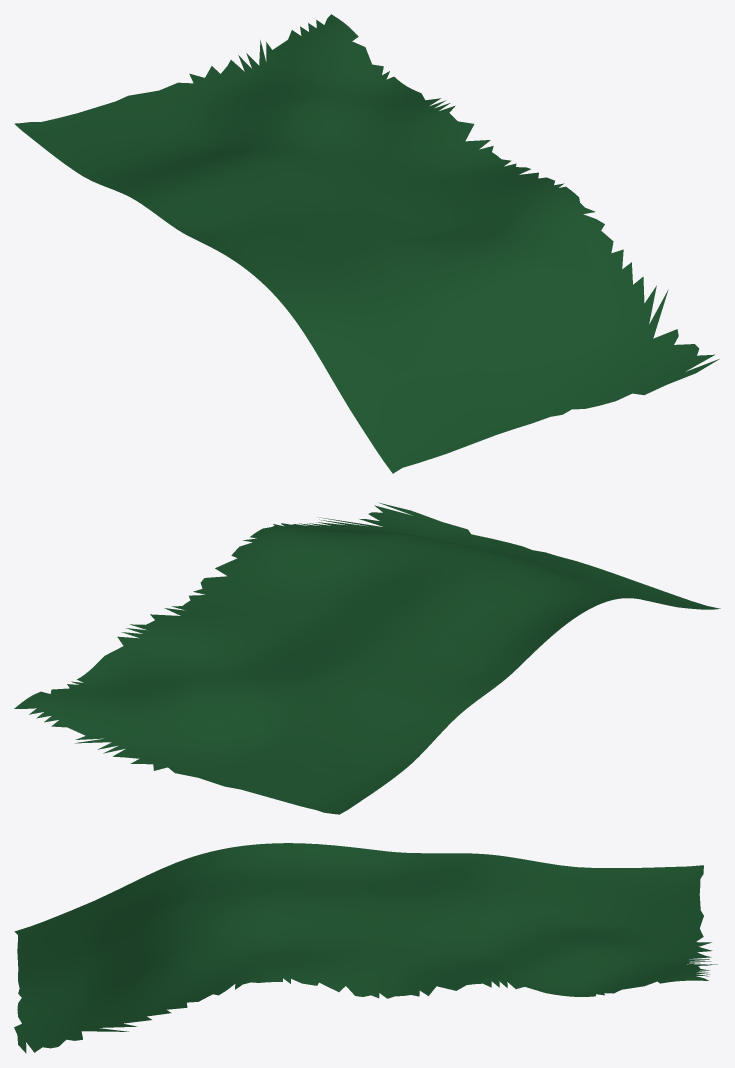
Rendered from payo_land_x4_ym1.glb.
3 views of the same model, one above another, from view 1: azimuth 30°, elevation 25°; view 2: azimuth 150°, elevation 25°; view 3: azimuth 270°, elevation 25° (orthographic). The views are drawn at different scales.
Visible parts, largest first — view 1: payo_land_x4_ym1; view 2: payo_land_x4_ym1; view 3: payo_land_x4_ym1.
Boxes of the visible parts, box(x1,y1,x2,y2) form: payo_land_x4_ym1: box(14, 14, 719, 473); payo_land_x4_ym1: box(14, 503, 720, 814); payo_land_x4_ym1: box(14, 843, 717, 1053).
Size of the model in its own units: 134 by 38.48 by 264.
